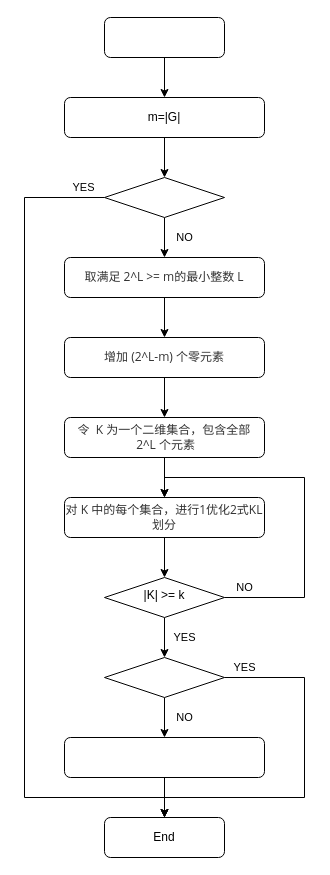
Image size: 330x875. Some labels were removed from this diagram. Each missing label, with the centre of its shape:
m <= k: (164,197)
Start: (164,37)
|K| = k: (164,677)
多模块划分算法MMM: (164,757)
